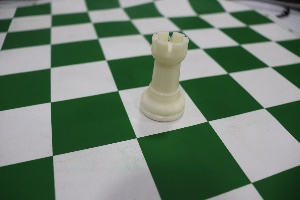white_rook: (132, 22, 196, 124)
